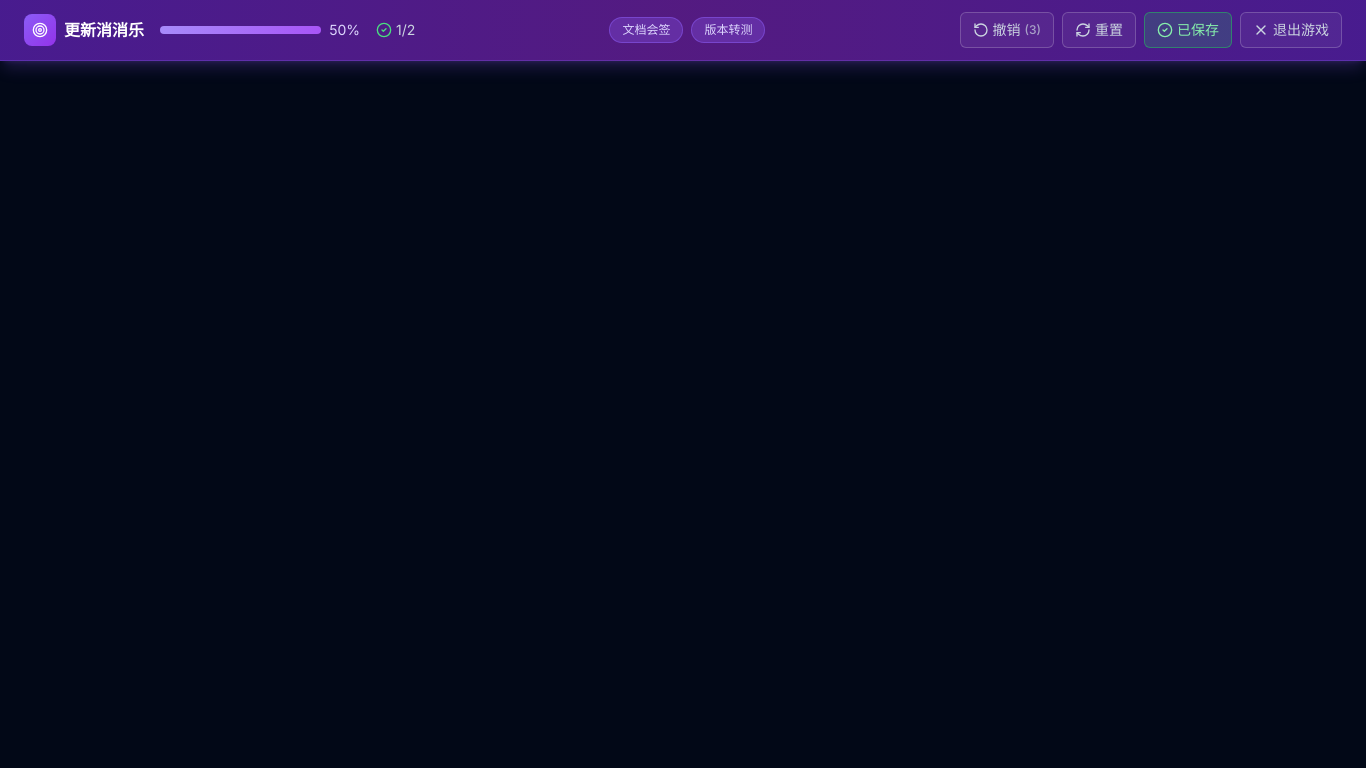
Test: GameStatusBar › exit dialog › should show saved message when saved
Click the button "退出游戏": (1291, 30) [1240, 12, 1342, 48]
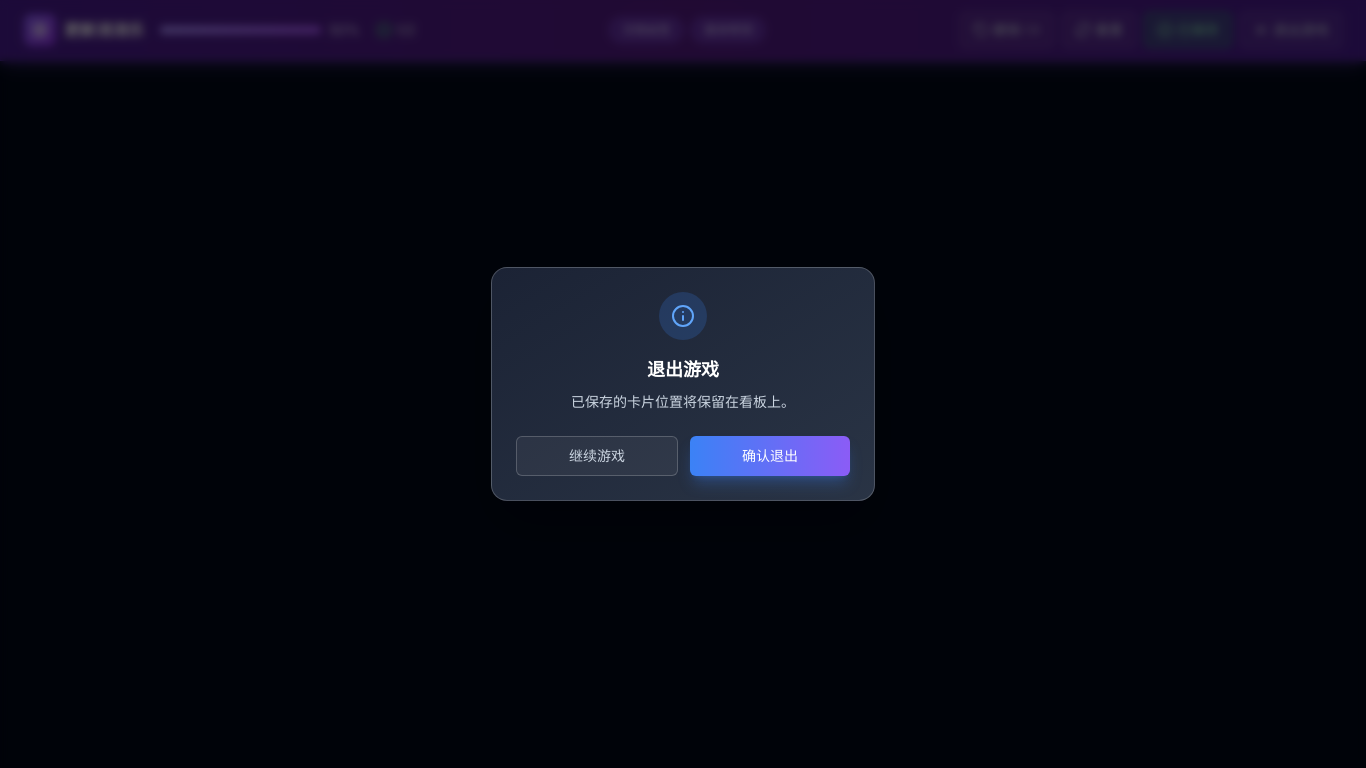
Expected: the text "已保存的卡片位置将保留在看板上。" is shown, [571, 393, 795, 410]
